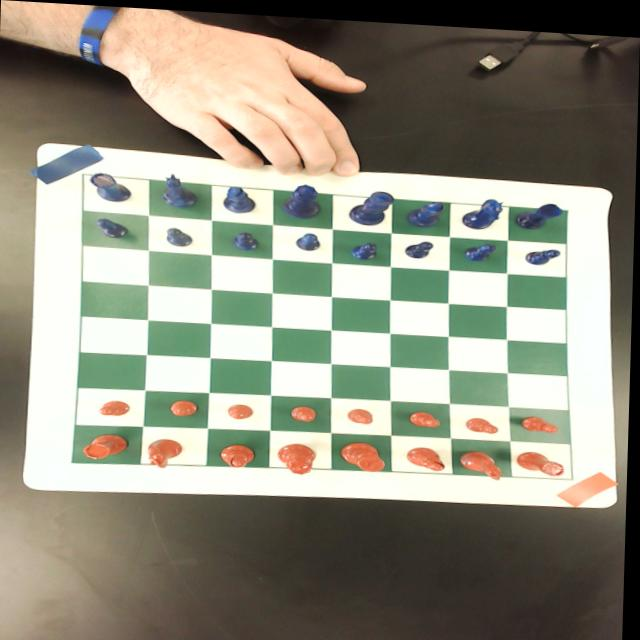B: (406, 195, 444, 222), (222, 183, 257, 211)
K: (348, 185, 394, 222)
N: (463, 190, 506, 224), (158, 172, 200, 206)
P: (95, 216, 131, 238), (464, 235, 498, 257), (526, 241, 561, 260), (230, 227, 260, 249), (166, 224, 194, 246), (405, 235, 435, 254), (296, 228, 322, 248), (352, 237, 378, 256)
Q: (283, 180, 323, 216)
R: (516, 194, 565, 225), (88, 170, 133, 201)
b: (406, 441, 448, 465), (219, 441, 258, 465)
k: (342, 436, 388, 468)
n: (461, 443, 510, 476), (146, 435, 187, 467)
p: (522, 409, 562, 427), (409, 405, 444, 423), (171, 396, 201, 416), (467, 411, 501, 428), (100, 398, 132, 416), (291, 401, 319, 419), (228, 400, 256, 417), (349, 403, 376, 420)
q: (279, 440, 318, 472)
r: (83, 431, 132, 460), (518, 444, 568, 470)
